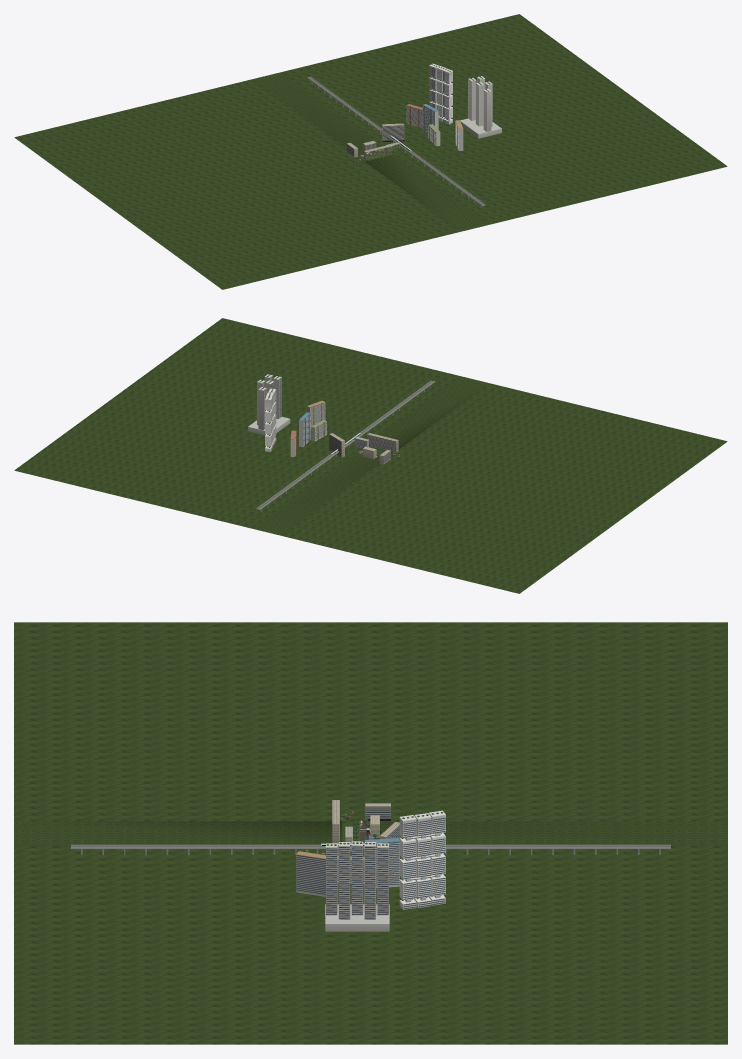
File: kopitiam.glb
3 views of the same model, one above another, from view 1: azimuth 30°, elevation 25°; view 2: azimuth 150°, elevation 25°; view 3: azimuth 270°, elevation 25° (orthographic). The views are drawn at different scales.
Parts seen in each view (by area): view 1: Kopitiam_Static, NOW_Skyline, THEN_Estate; view 2: Kopitiam_Static, NOW_Skyline, THEN_Estate; view 3: Kopitiam_Static, NOW_Skyline, THEN_Estate.
Part boxes in pixels (x1,y1,x2,y2): Kopitiam_Static: (14,14,727,289); NOW_Skyline: (307,63,501,207); THEN_Estate: (346,123,404,162); Kopitiam_Static: (14,318,727,593); NOW_Skyline: (248,374,434,511); THEN_Estate: (329,433,400,464); Kopitiam_Static: (14,622,727,1044); NOW_Skyline: (71,810,670,931); THEN_Estate: (340,803,401,842).
Bounding box in the file's own units: 1400 × 139 × 1000.
16 materials, 10 textured.
